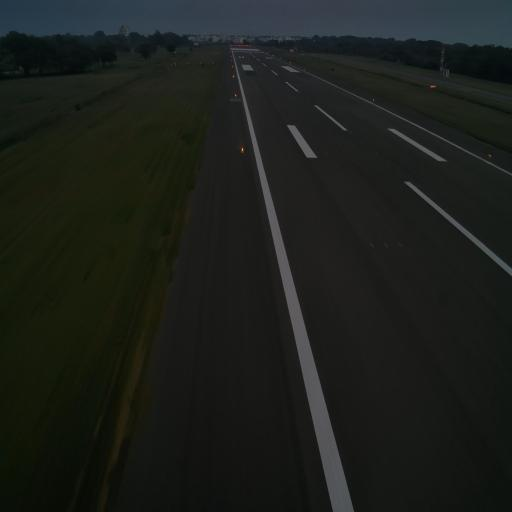off: (368, 240, 376, 251), (384, 240, 389, 250), (398, 241, 403, 250), (374, 151, 378, 157)
on: (240, 146, 245, 156), (487, 150, 492, 158), (372, 97, 375, 102)
